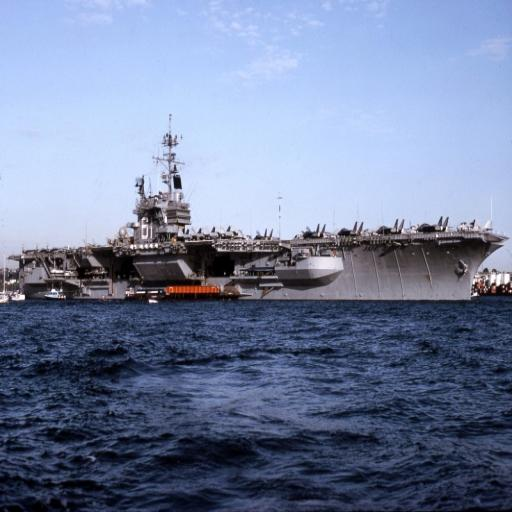Portanaves: (2, 115, 510, 308)
